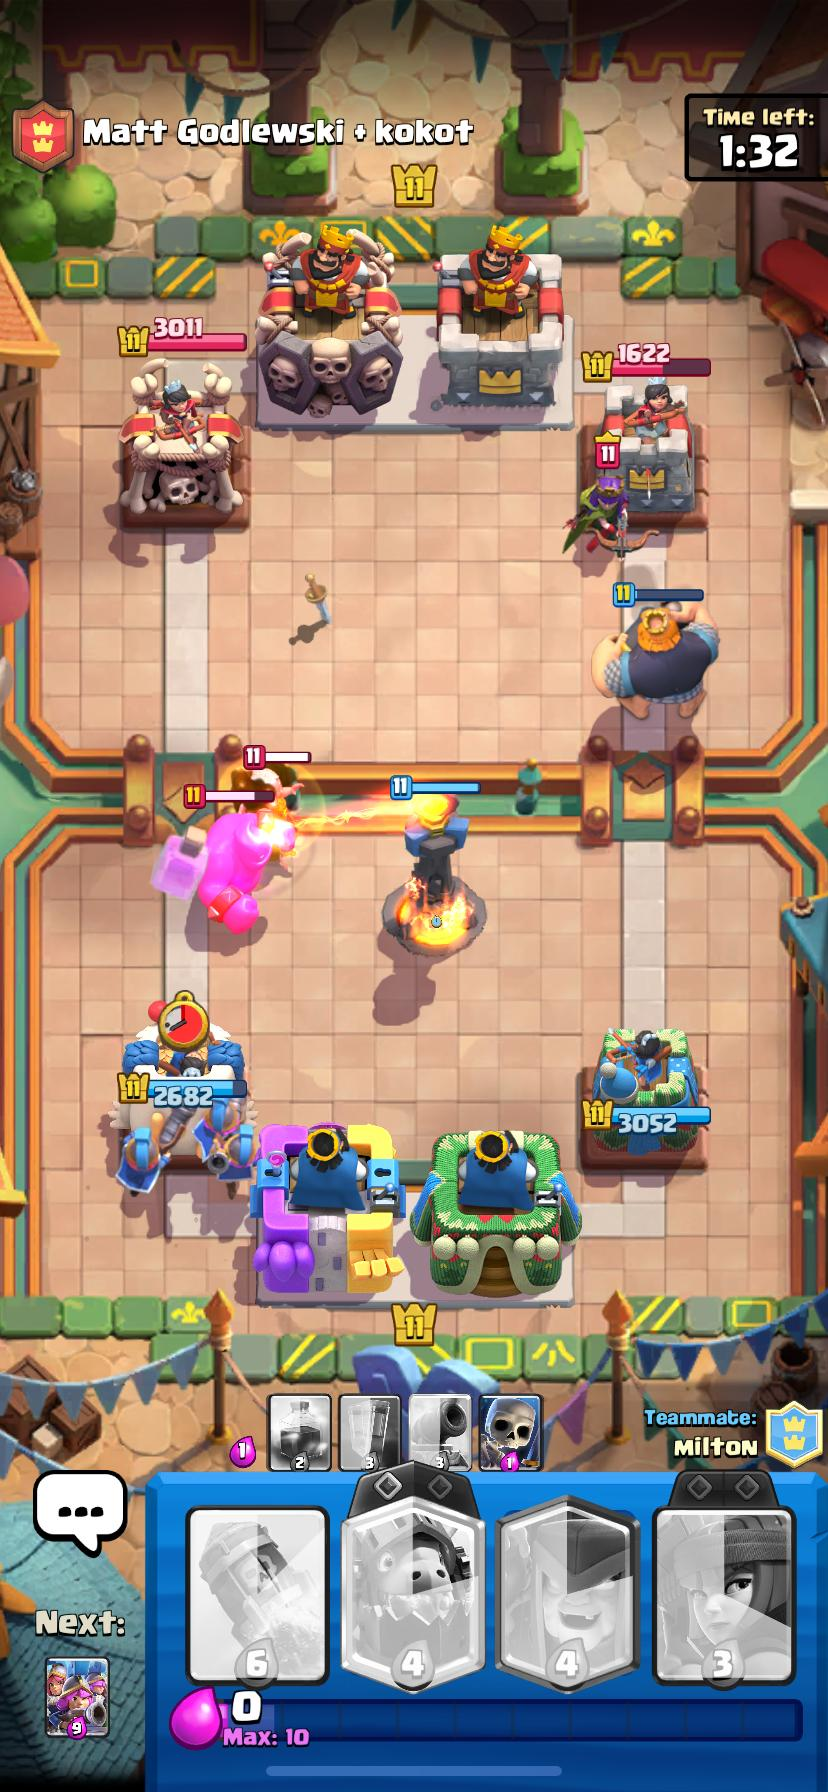EArcherQueen: (564, 471, 648, 558)
EElixerGolem: (202, 815, 268, 933)
EKingTower: (256, 226, 403, 421), (436, 247, 571, 410)
EnemyPrincessTower: (120, 363, 242, 519), (604, 385, 695, 510)
OInfernoTower: (383, 795, 485, 954)
ORoyalG: (592, 599, 718, 717)
OwnKingTower: (411, 1130, 581, 1295), (250, 1123, 403, 1299)
OwnPrincessTower: (109, 991, 253, 1192), (580, 1030, 709, 1169)
